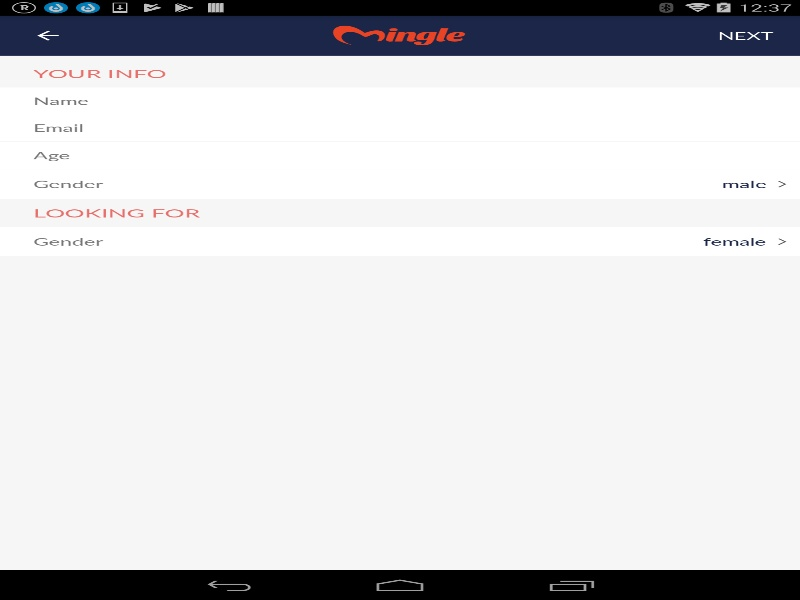Button: (10, 15, 85, 55)
Input: (280, 87, 800, 114), (280, 114, 800, 141), (280, 141, 800, 168)
